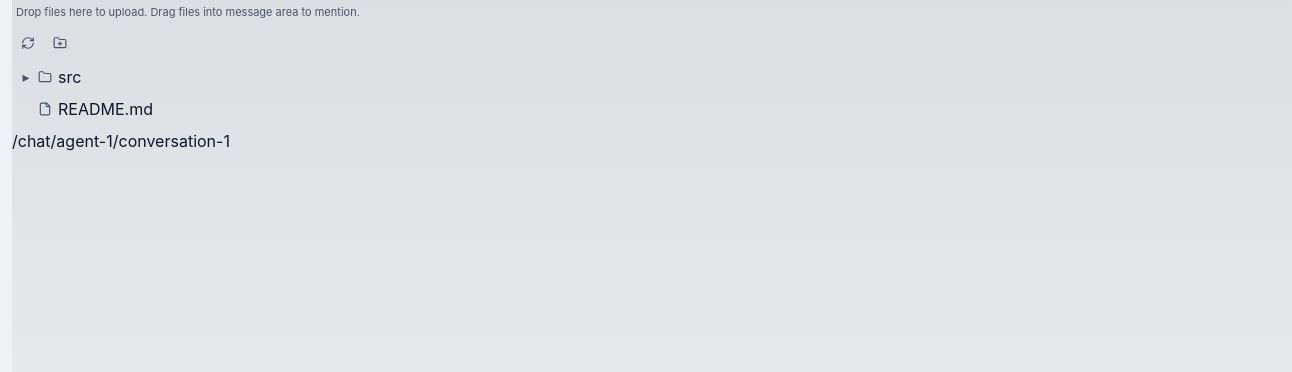
Test: WorkspaceFilesTab › collapses a directory on second click
This screenshot has width=1292, height=372.
Click the button "▸ src" at (26, 76), box [16,62,1232,90]
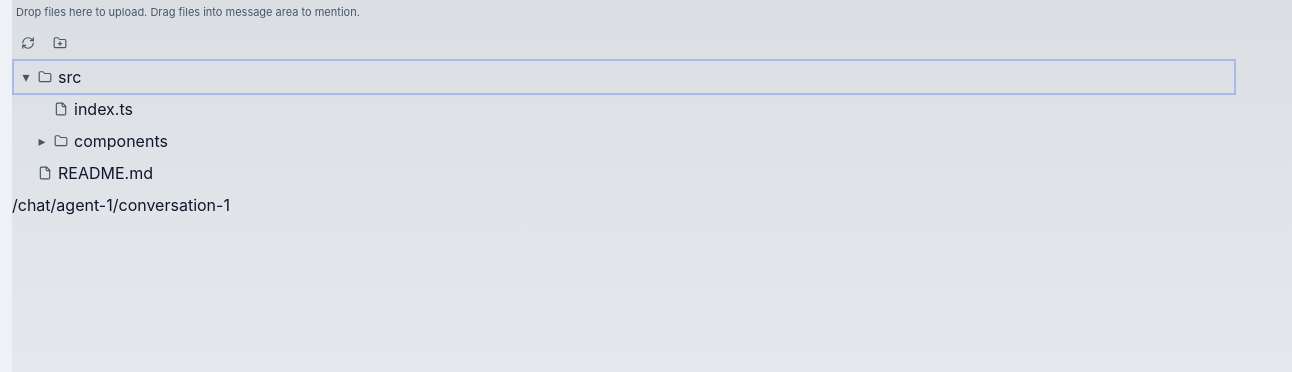
Check: the text "index.ts" is shown, box [74,96,133,120]
Click the button "▾ src" at (26, 76), box [16,62,1232,90]
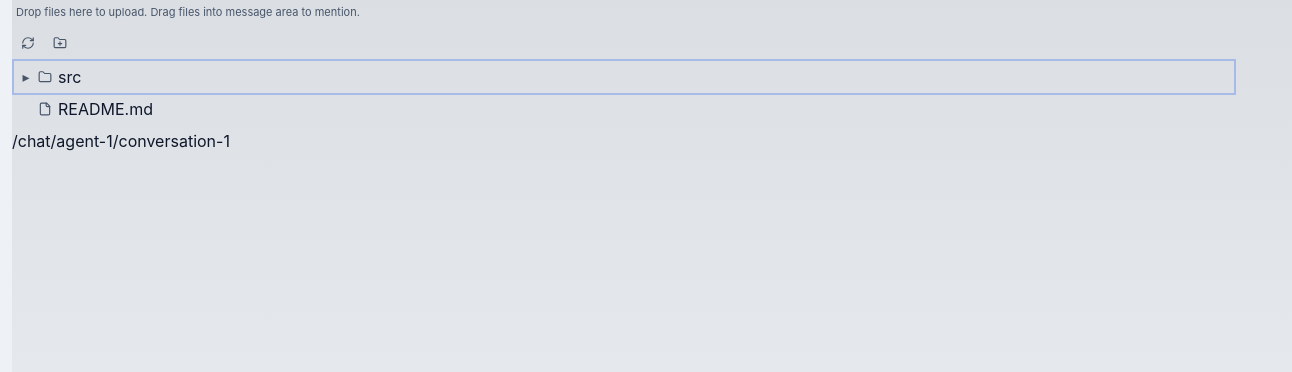
Check: the button "index.ts" is gone
